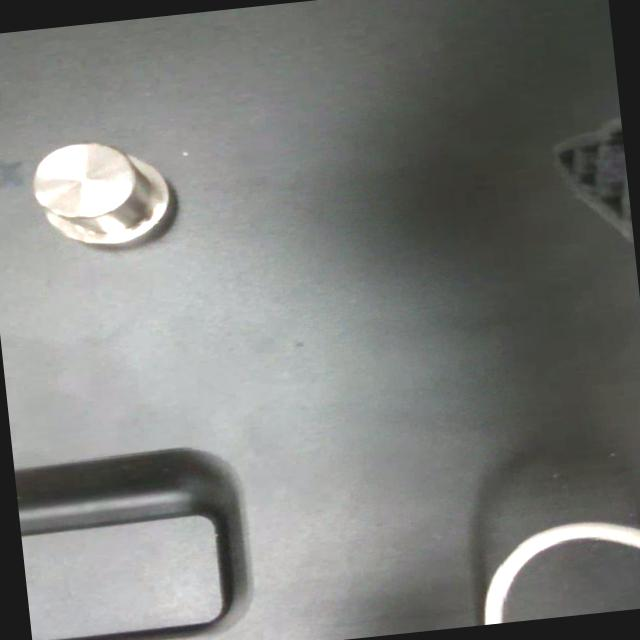sensor: (27, 134, 176, 254)
